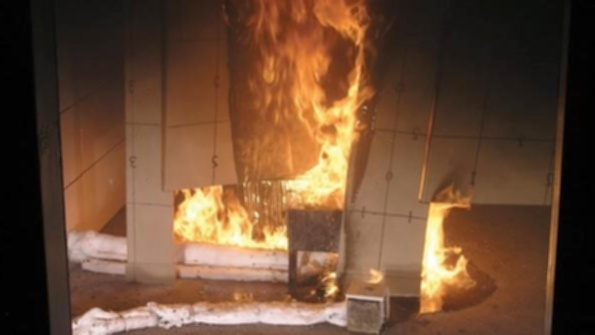fire: (167, 0, 386, 268), (400, 186, 494, 314)
